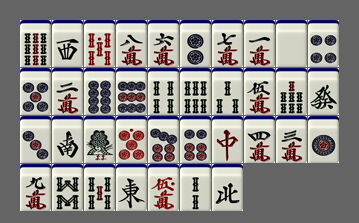0m: (148, 164, 179, 211)
0p: (116, 116, 147, 163)
0s: (84, 20, 115, 67)
1m: (244, 20, 275, 67)
1p: (308, 116, 339, 163)
1s: (84, 116, 115, 163)
1z: (116, 164, 147, 211)
2m: (52, 68, 83, 115)
2p: (180, 20, 211, 67)
2s: (180, 164, 211, 211)
2z: (52, 116, 83, 163)
3m: (276, 116, 307, 163)
3p: (20, 116, 51, 163)
3s: (212, 68, 243, 115)
3z: (52, 20, 83, 67)
4m: (244, 116, 275, 163)
4p: (308, 20, 339, 67)
4s: (148, 68, 179, 115)
4z: (212, 164, 243, 211)
5m: (244, 68, 275, 115)
5p: (20, 68, 51, 115)
5s: (84, 164, 115, 211)
5z: (276, 20, 307, 67)
6m: (148, 20, 179, 67)
6p: (180, 116, 211, 163)
6s: (180, 68, 211, 115)
6z: (308, 68, 339, 115)
7m: (212, 20, 243, 67)
7p: (148, 116, 179, 163)
7s: (276, 68, 307, 115)
7z: (212, 116, 243, 163)
8m: (116, 20, 147, 67)
8p: (84, 68, 115, 115)
8s: (52, 164, 83, 211)
9m: (20, 164, 51, 211)
9p: (116, 68, 147, 115)
9s: (20, 20, 51, 67)
